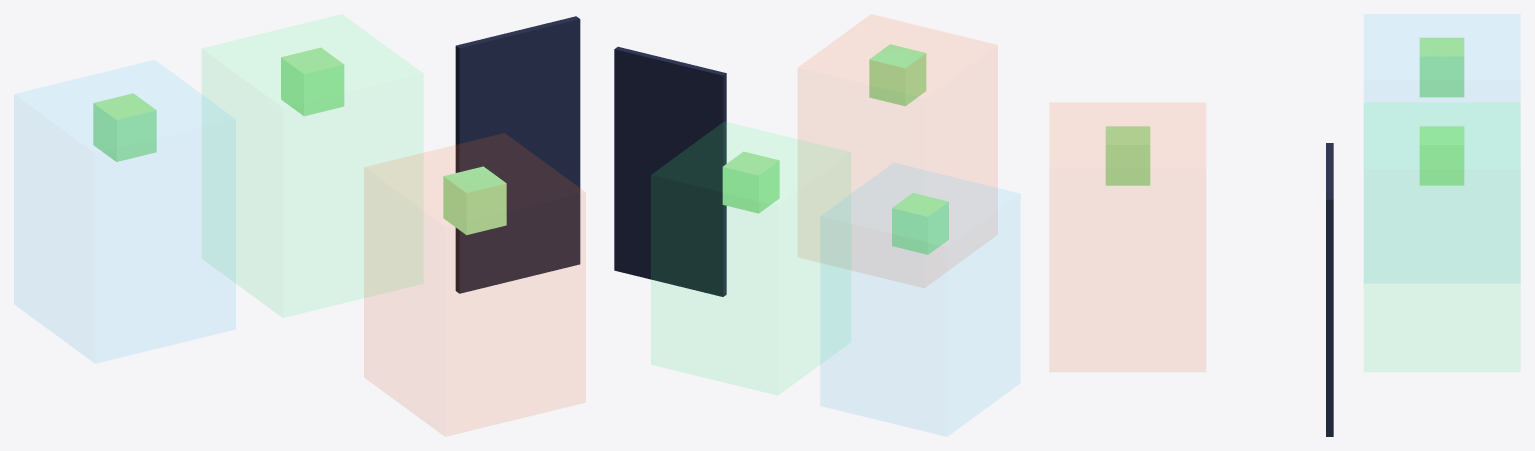
The model's file is playrix_door_puzzle.glb.
The picture shows the model from 3 angles, left to right: view 1: azimuth 30°, elevation 25°; view 2: azimuth 150°, elevation 25°; view 3: azimuth 270°, elevation 25°; orthographic projection. The views are drawn at different scales.
Visible parts, largest first — view 1: TRIGGER_C, TRIGGER_A, TRIGGER_B, DOOR_MAIN, LIGHT_B, LIGHT_A, LIGHT_C; view 2: TRIGGER_A, TRIGGER_B, TRIGGER_C, DOOR_MAIN, LIGHT_B, LIGHT_C, LIGHT_A; view 3: TRIGGER_B, TRIGGER_C, TRIGGER_A, LIGHT_A, LIGHT_B, LIGHT_C, DOOR_MAIN.
Boxes of the visible parts, <box> form: TRIGGER_C: <box>364,133,585,436</box>; TRIGGER_A: <box>14,60,235,362</box>; TRIGGER_B: <box>202,15,422,317</box>; DOOR_MAIN: <box>455,16,580,293</box>; LIGHT_B: <box>281,47,344,116</box>; LIGHT_A: <box>93,93,156,161</box>; LIGHT_C: <box>443,166,506,235</box>; TRIGGER_A: <box>821,163,1019,435</box>; TRIGGER_B: <box>651,122,850,394</box>; TRIGGER_C: <box>798,15,997,192</box>; DOOR_MAIN: <box>614,46,726,296</box>; LIGHT_B: <box>722,151,779,213</box>; LIGHT_C: <box>869,44,926,106</box>; LIGHT_A: <box>892,193,948,254</box>; TRIGGER_B: <box>1364,103,1519,371</box>; TRIGGER_C: <box>1050,103,1205,371</box>; TRIGGER_A: <box>1364,14,1519,101</box>; LIGHT_A: <box>1419,37,1464,97</box>; LIGHT_B: <box>1419,126,1464,185</box>; LIGHT_C: <box>1105,126,1150,185</box>; DOOR_MAIN: <box>1326,143,1333,436</box>.
Size of what is drawn, in the model's own units: 6.95 by 3.5 by 6.3.
